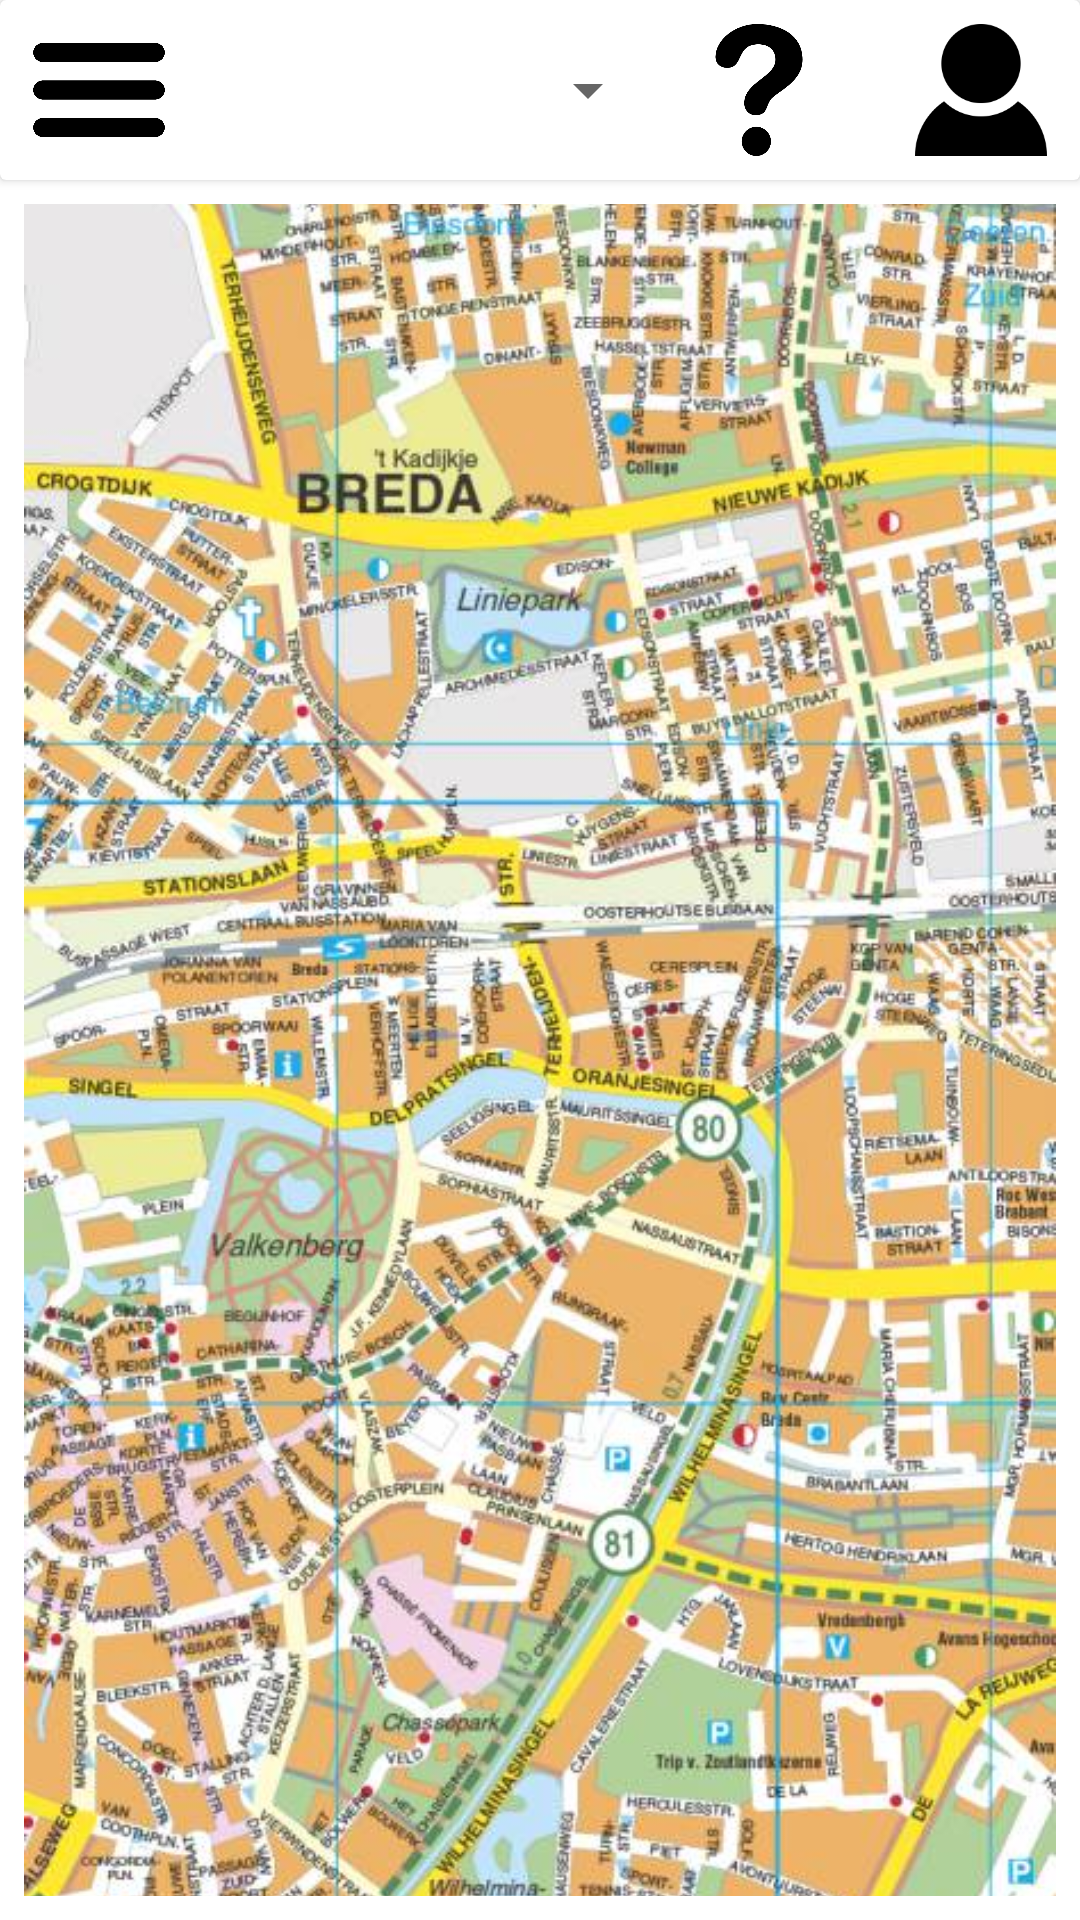

Where to tap for icons on this 1080x1920 app screen, as (x=x, y=y):
help: (x=759, y=90)
user: (x=981, y=90)
